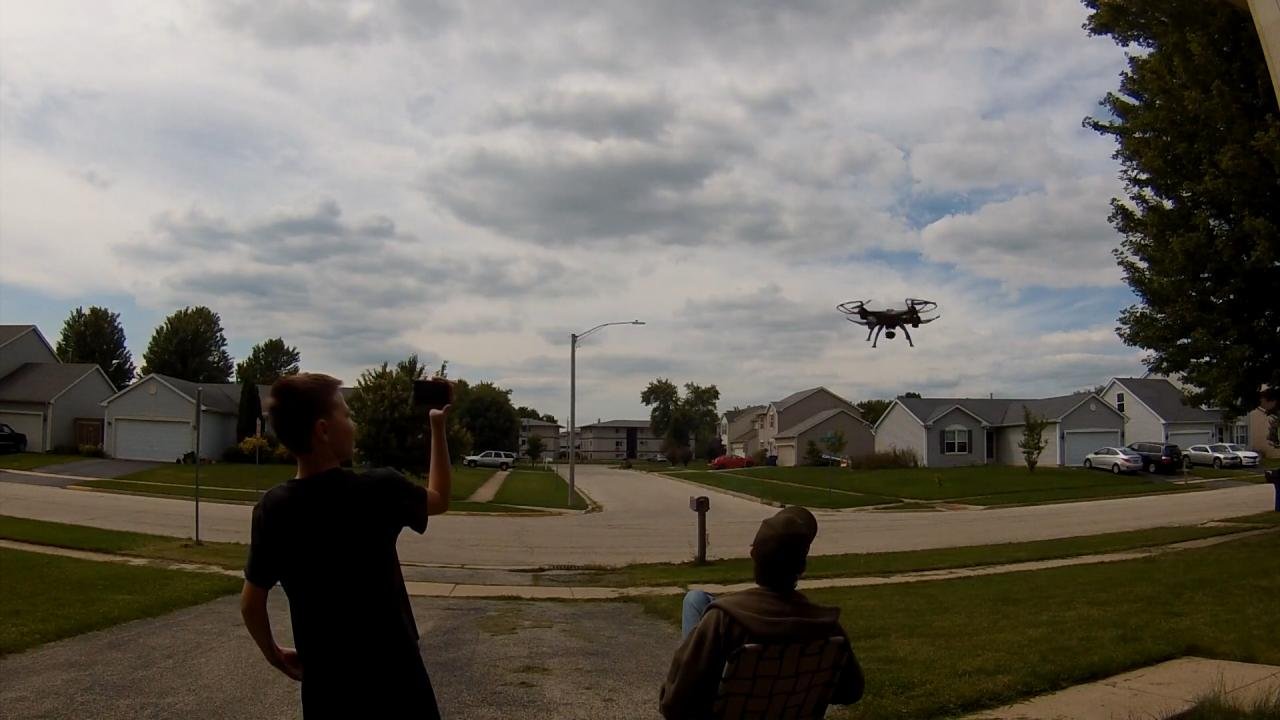Drone: (827, 285, 949, 357)
